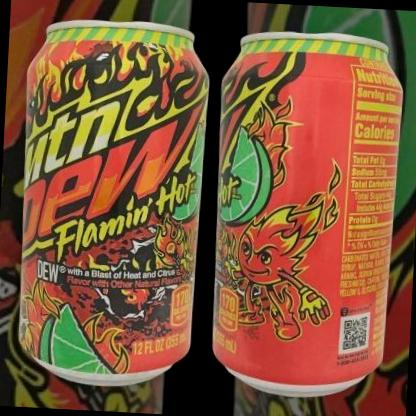alumunium_can: (3, 14, 218, 395), (200, 22, 413, 404)
